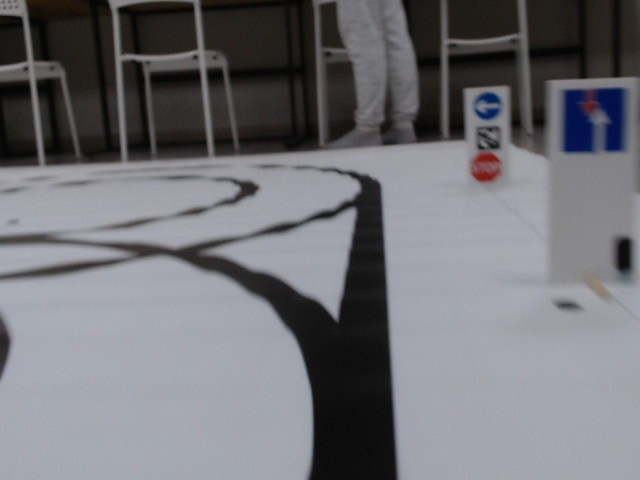Stop: (469, 153, 502, 179)
priority_movement: (559, 84, 629, 158)
